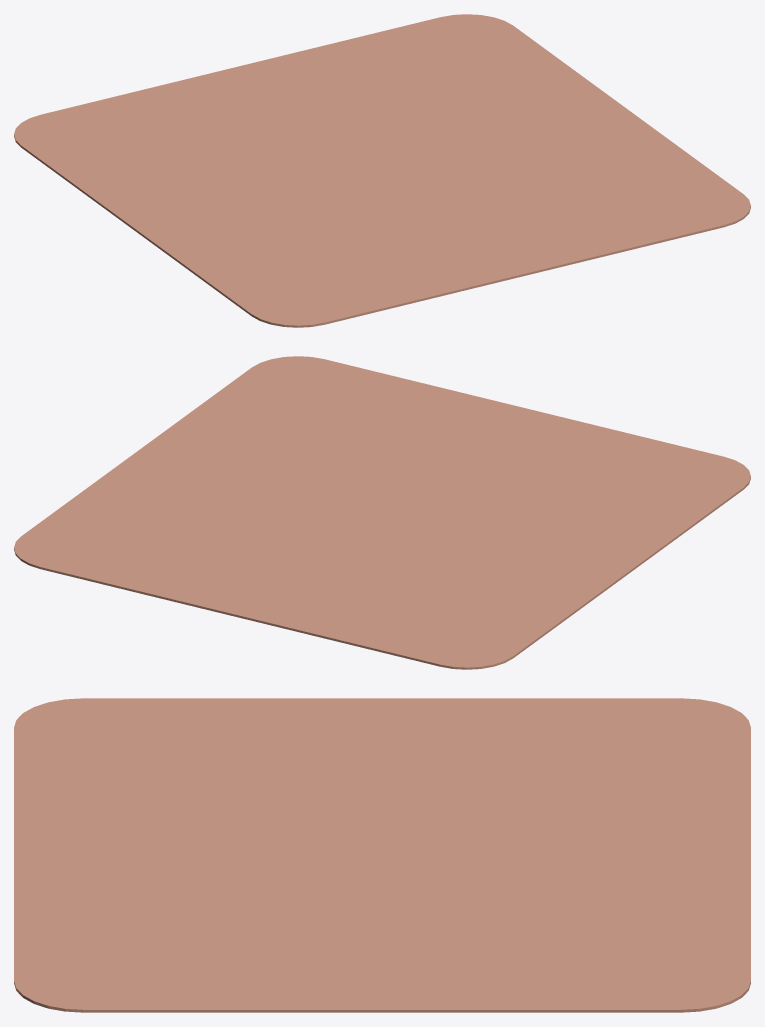
The picture shows the model from 3 angles, top to bottom: view 1: azimuth 30°, elevation 25°; view 2: azimuth 150°, elevation 25°; view 3: azimuth 270°, elevation 25°; orthographic projection. The views are drawn at different scales.
Visible parts, largest first — view 1: COM-02 Floor Surface; view 2: COM-02 Floor Surface; view 3: COM-02 Floor Surface.
Part boxes in pixels (<box>): COM-02 Floor Surface: <box>14,14,750,327</box>; COM-02 Floor Surface: <box>14,356,750,669</box>; COM-02 Floor Surface: <box>14,698,750,1012</box>.
Size of the model in its own units: 1.92 by 0.008 by 1.92.
Materials: 1 (1 with a texture image).
